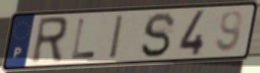4: (177, 9, 207, 59)
9: (215, 9, 246, 54)
I: (108, 13, 126, 61)
L: (70, 17, 98, 61)
R: (28, 15, 70, 66)
S: (139, 11, 178, 60)
